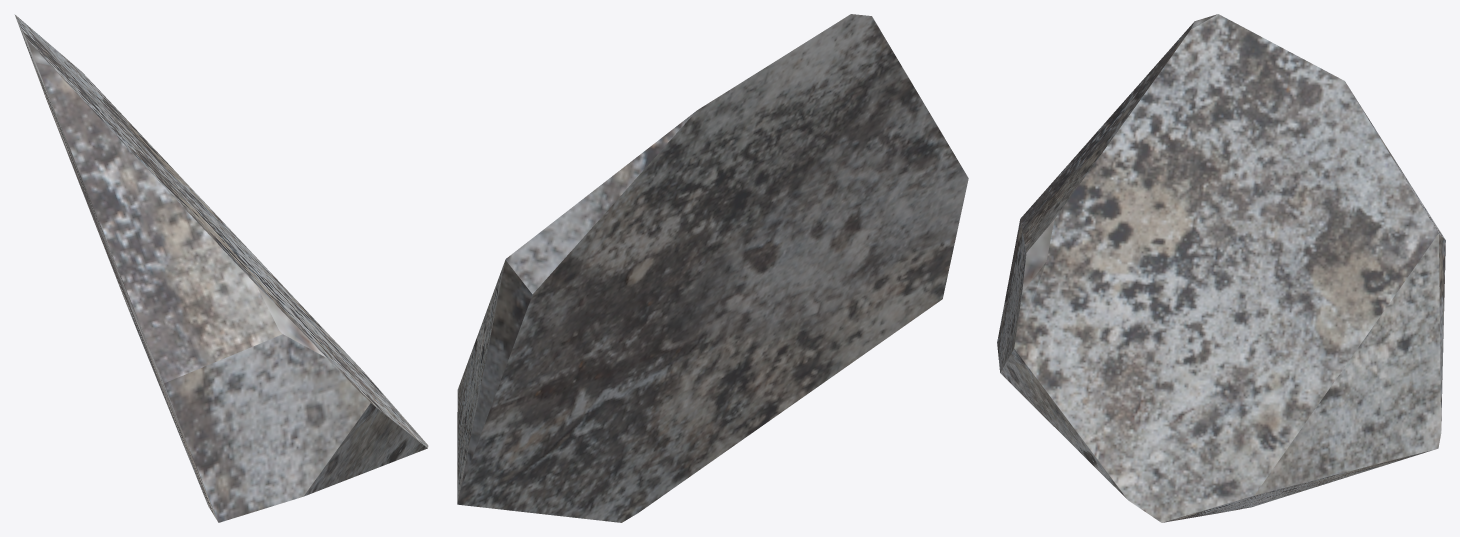
Rendered from Asteroid_Large_001_02_010_03_010.fbx.
3 renders of one model, left to right at view 1: azimuth 30°, elevation 25°; view 2: azimuth 150°, elevation 25°; view 3: azimuth 270°, elevation 25°, orthographic. The views are drawn at different scales.
Visible parts, largest first — view 1: Asteroid_Large_001_02_010_03_010; view 2: Asteroid_Large_001_02_010_03_010; view 3: Asteroid_Large_001_02_010_03_010.
Part boxes in pixels (<box>): Asteroid_Large_001_02_010_03_010: <box>14,14,428,522</box>; Asteroid_Large_001_02_010_03_010: <box>457,14,968,522</box>; Asteroid_Large_001_02_010_03_010: <box>997,14,1445,522</box>.
Size of the model in its own units: 7.85 by 10.7 by 10.46.
